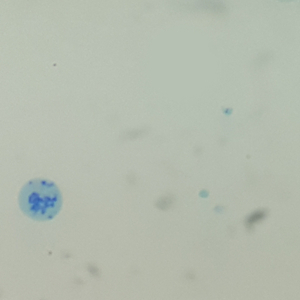aggregate reticulocyte: (17, 177, 63, 224)
